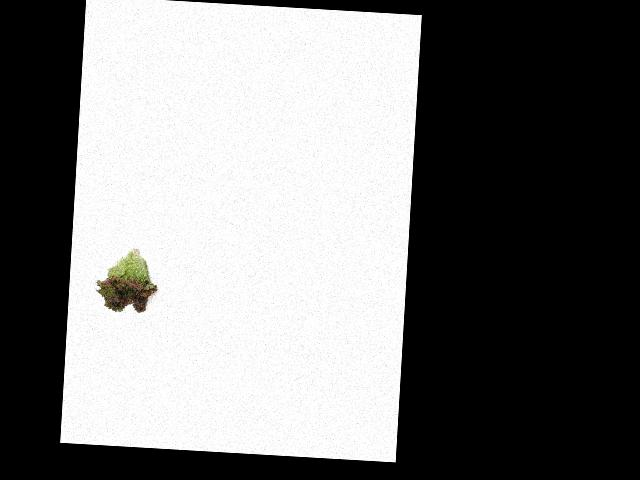lettuce: (91, 244, 165, 322)
